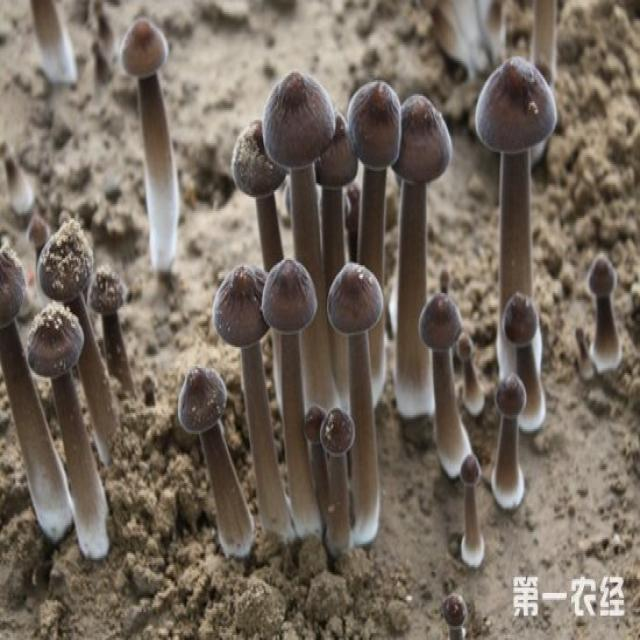Collybia albuminosa: (475, 54, 557, 403), (0, 240, 77, 539), (216, 262, 294, 539), (27, 301, 111, 556), (38, 222, 122, 454), (393, 94, 447, 415), (330, 261, 385, 544), (123, 15, 180, 269), (266, 258, 318, 534), (179, 365, 251, 557), (265, 70, 334, 254), (420, 294, 476, 472), (350, 80, 400, 269), (89, 271, 140, 399), (235, 119, 280, 262), (505, 290, 543, 427), (588, 249, 619, 371), (496, 373, 524, 508), (458, 453, 486, 565)
